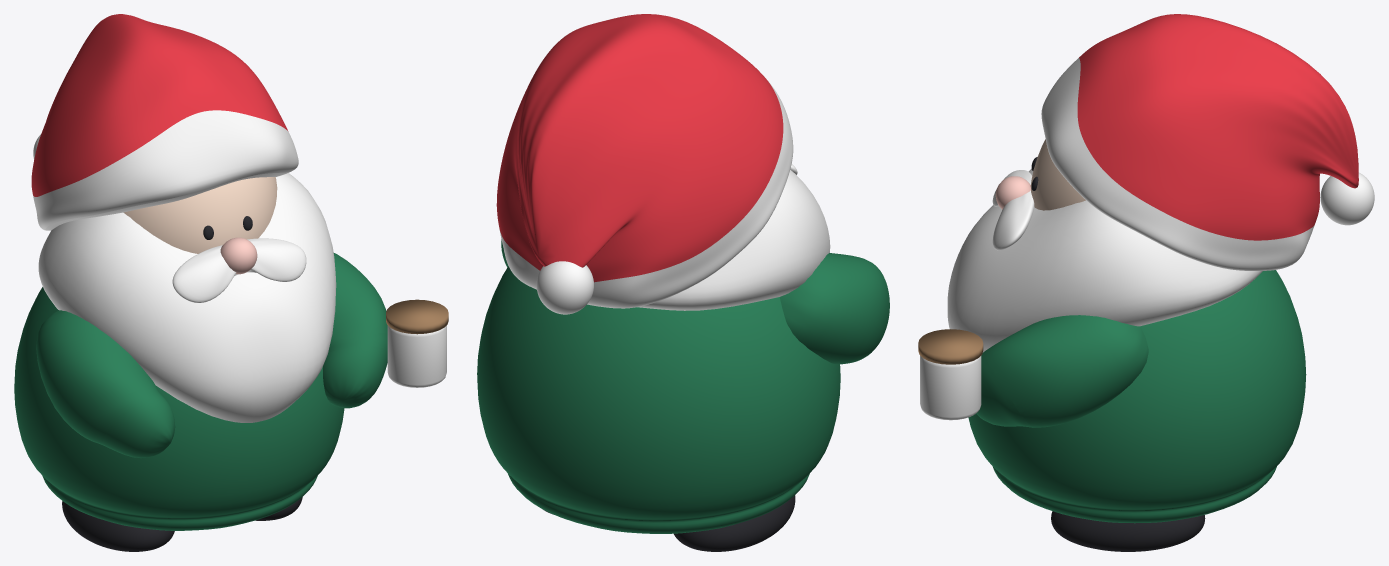
Rendered from barista.glb.
3 views of the same model, side by side, from view 1: azimuth 30°, elevation 25°; view 2: azimuth 150°, elevation 25°; view 3: azimuth 270°, elevation 25° (orthographic). The views are drawn at different scales.
Parts seen in each view (by area): view 1: barista_white, barista_darkgreen, barista_red, barista_skin, barista_black, barista_brown, barista_nose; view 2: barista_darkgreen, barista_red, barista_white, barista_black; view 3: barista_darkgreen, barista_red, barista_white, barista_black, barista_brown, barista_skin, barista_nose.
Boxes of the visible parts, left/top/right/bottom form: barista_white: left=33, top=110, right=446, bottom=422; barista_darkgreen: left=14, top=253, right=387, bottom=530; barista_red: left=31, top=14, right=288, bottom=196; barista_skin: left=123, top=177, right=277, bottom=253; barista_black: left=62, top=216, right=302, bottom=551; barista_brown: left=386, top=299, right=448, bottom=334; barista_nose: left=220, top=237, right=257, bottom=274; barista_darkgreen: left=477, top=239, right=889, bottom=533; barista_red: left=496, top=14, right=783, bottom=282; barista_white: left=499, top=79, right=830, bottom=314; barista_black: left=544, top=495, right=795, bottom=551; barista_darkgreen: left=968, top=270, right=1306, bottom=523; barista_red: left=1077, top=14, right=1358, bottom=240; barista_white: left=920, top=58, right=1374, bottom=420; barista_black: left=1031, top=157, right=1205, bottom=551; barista_brown: left=918, top=329, right=983, bottom=364; barista_skin: left=1030, top=139, right=1085, bottom=210; barista_nose: left=995, top=176, right=1030, bottom=209.
Size of the model in its own units: 2.23 by 2.96 by 2.53.
